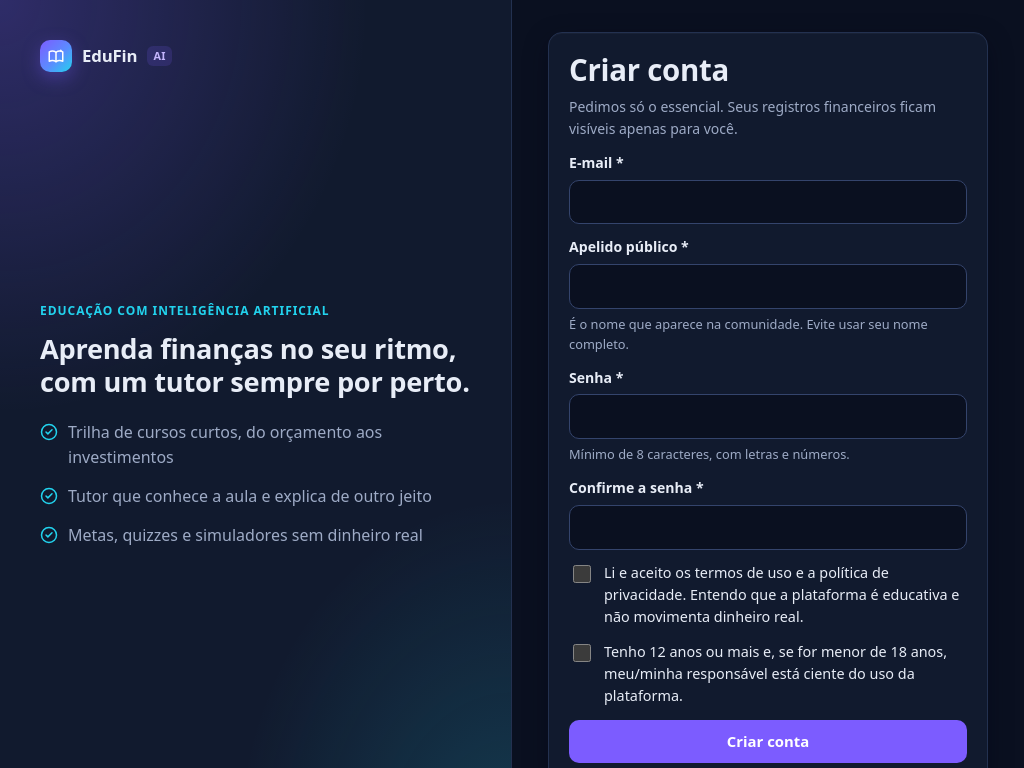
Test case: navegação e autenticação › valida o formulário de cadastro antes de enviar
The width and height of the screenshot is (1024, 768).
Click the button "Criar conta" at (768, 741), box [569,720,967,763]
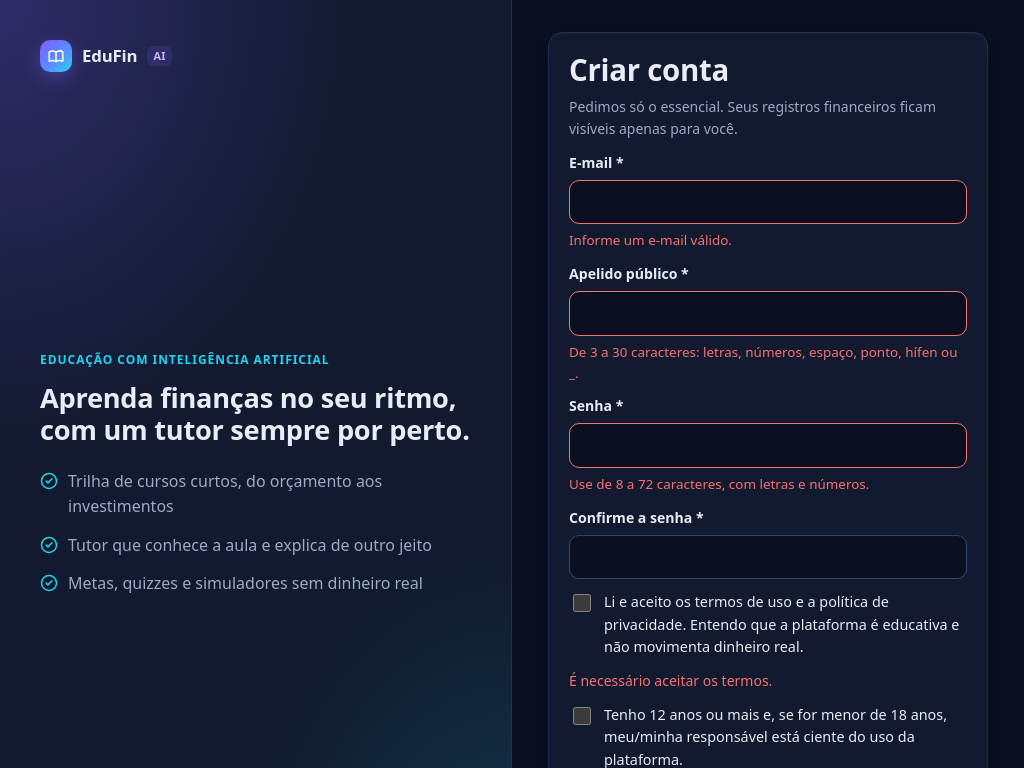
Result: the text "Informe um e-mail válido." is shown at [569,231,732,249]
Result: the text "Use de 8 a 72 caracteres, com letras e números." is shown at [569,475,869,493]
Result: the text "É necessário aceitar os termos." is shown at [569,671,772,690]
